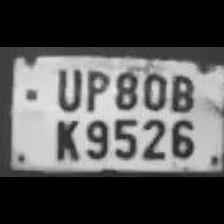0: (138, 67, 168, 109)
2: (138, 115, 166, 161)
5: (110, 113, 139, 159)
6: (164, 115, 196, 161)
8: (110, 67, 139, 111)
9: (81, 115, 109, 161)
B: (166, 69, 196, 111)
K: (48, 115, 80, 161)
P: (82, 65, 110, 112)
U: (52, 62, 82, 112)
